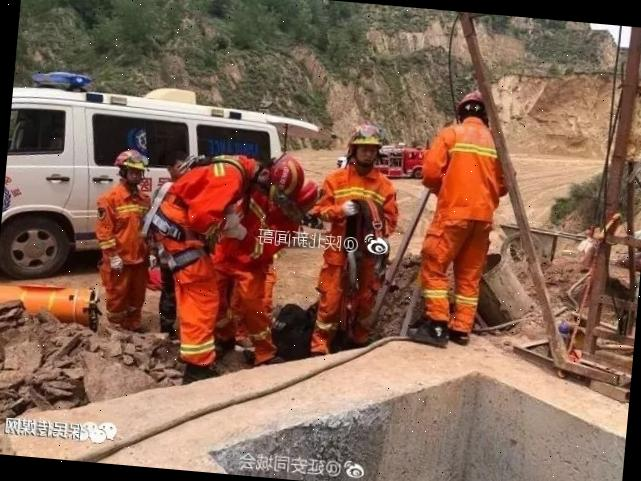helmet: (268, 152, 304, 204), (346, 120, 385, 154), (458, 87, 492, 122), (114, 148, 148, 174)
wear: (317, 165, 398, 270), (160, 152, 245, 248), (428, 122, 504, 226), (98, 186, 150, 270)
